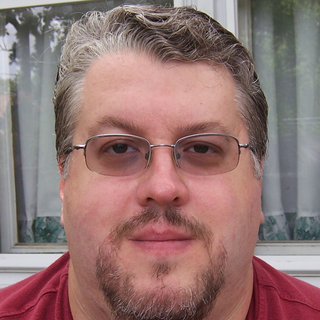eye: (100, 138, 141, 162), (179, 140, 227, 160)
